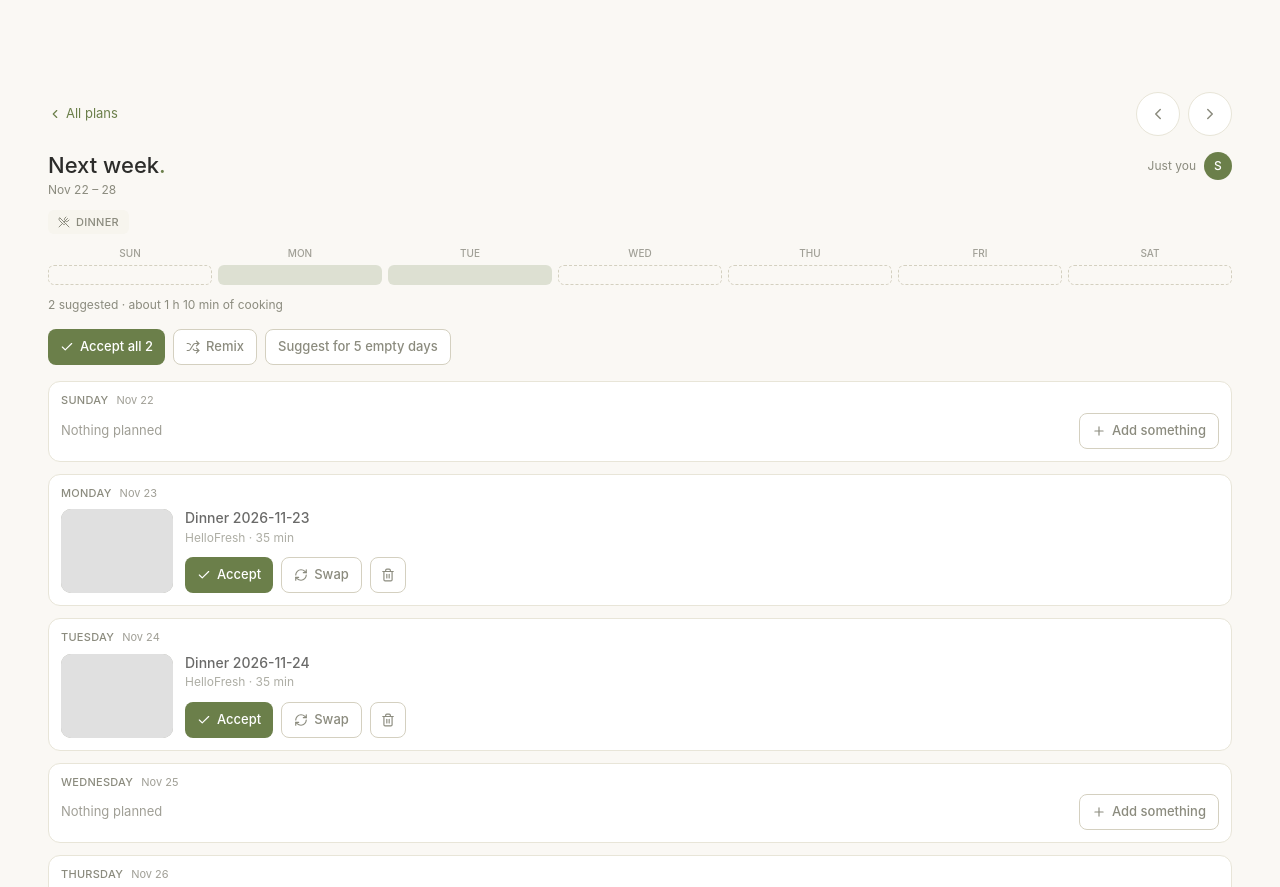
Scenario: Week editor › acting on suggestions › accepts all of a later week in order
Click the button "Accept all 2".
click(107, 347)  # box [48,329,165,365]
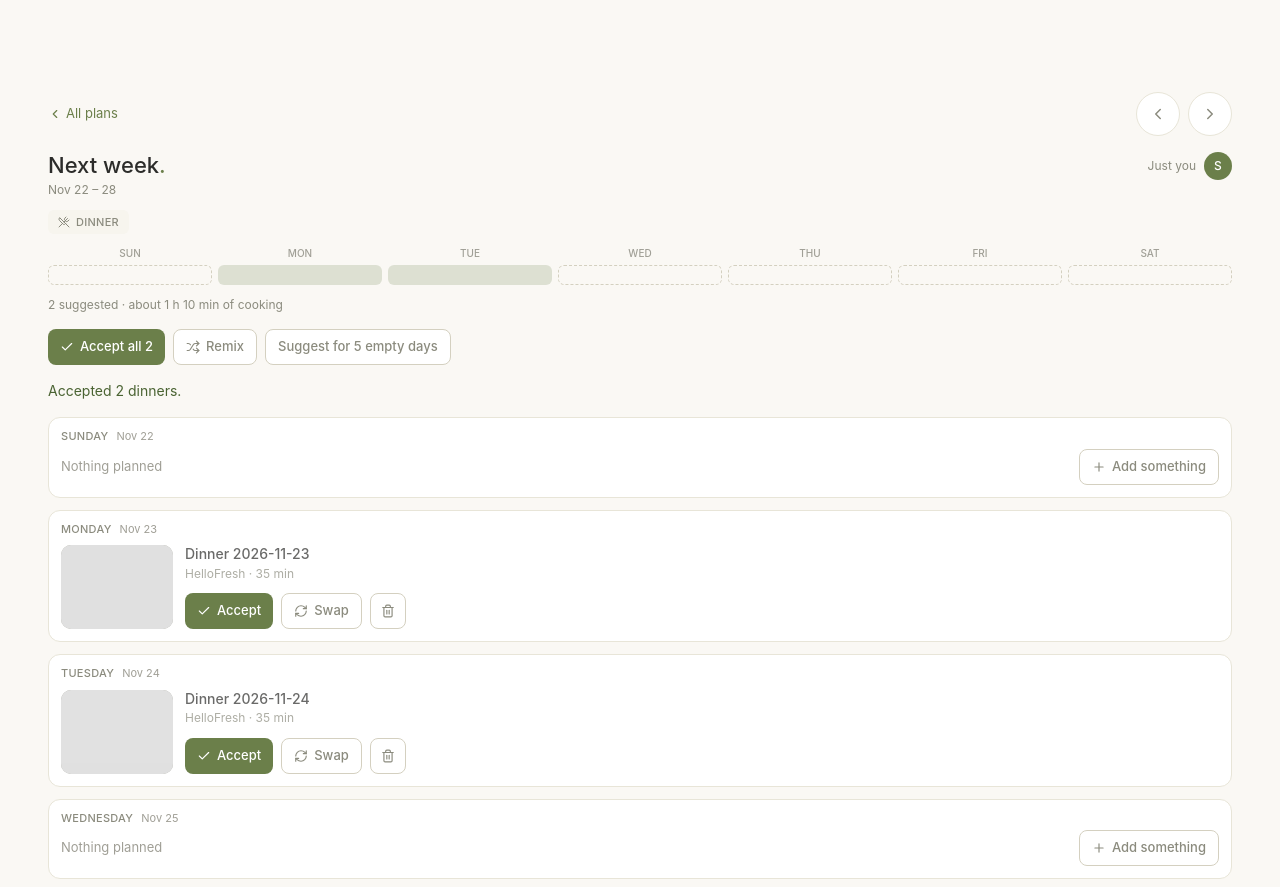
Check: the message reads "Accepted 2 dinners.", box [48,382,181,399]
